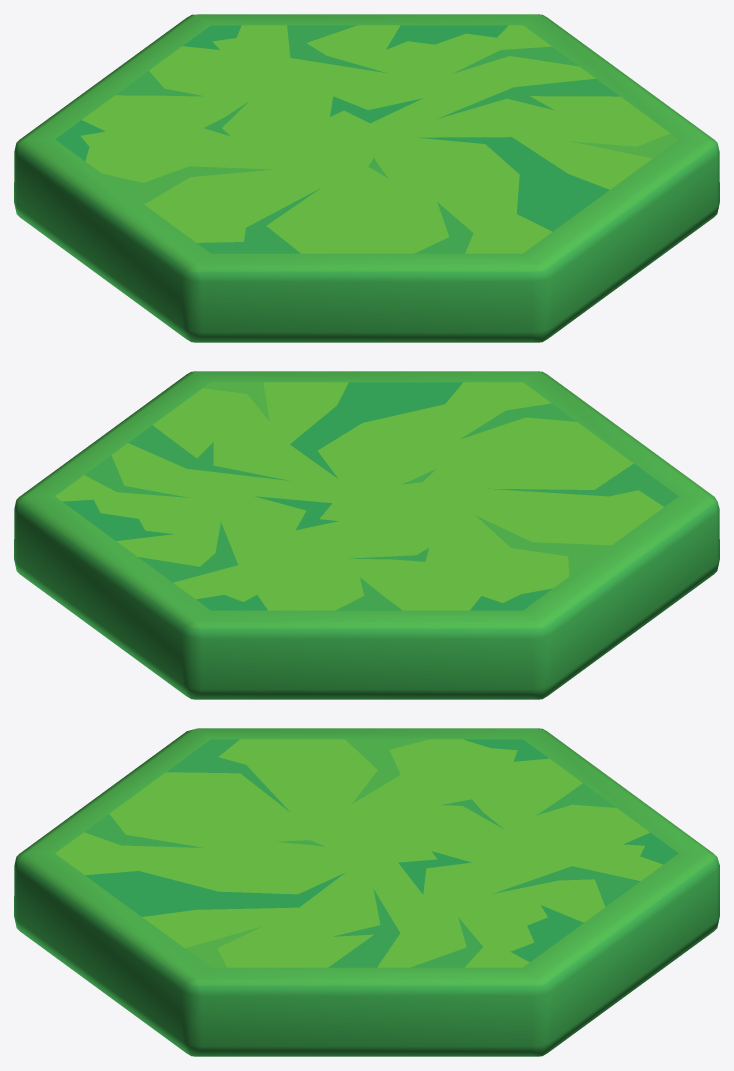
File: Platform green 4.fbx
The picture shows the model from 3 angles, top to bottom: view 1: azimuth 30°, elevation 25°; view 2: azimuth 150°, elevation 25°; view 3: azimuth 270°, elevation 25°; orthographic projection.
Visible parts, largest first — view 1: Platform green 4; view 2: Platform green 4; view 3: Platform green 4.
Part boxes in pixels (x1,y1,x2,y2): Platform green 4: (14, 14, 719, 342); Platform green 4: (14, 371, 719, 699); Platform green 4: (14, 728, 719, 1056).
Size of the model in its own units: 625 by 83.5 by 715.
